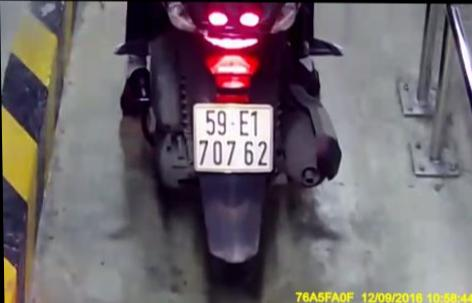LP: (192, 103, 274, 174)
